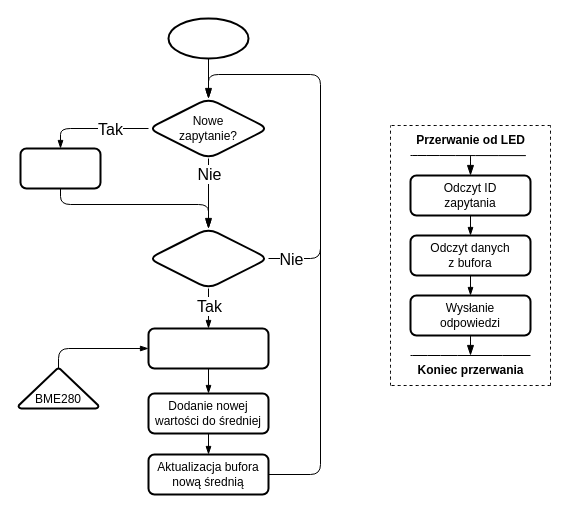
The diagram is 569 pixels wide and 512 high, and some of its shapes have lost their labels. Each missing label, with the centre of its shape:
"Mignięcie LED" goes at (x=60, y=168).
"Następny odczyt?" goes at (x=208, y=258).
"Odczytanie sensora" goes at (x=208, y=348).
"START" goes at (x=208, y=38).
